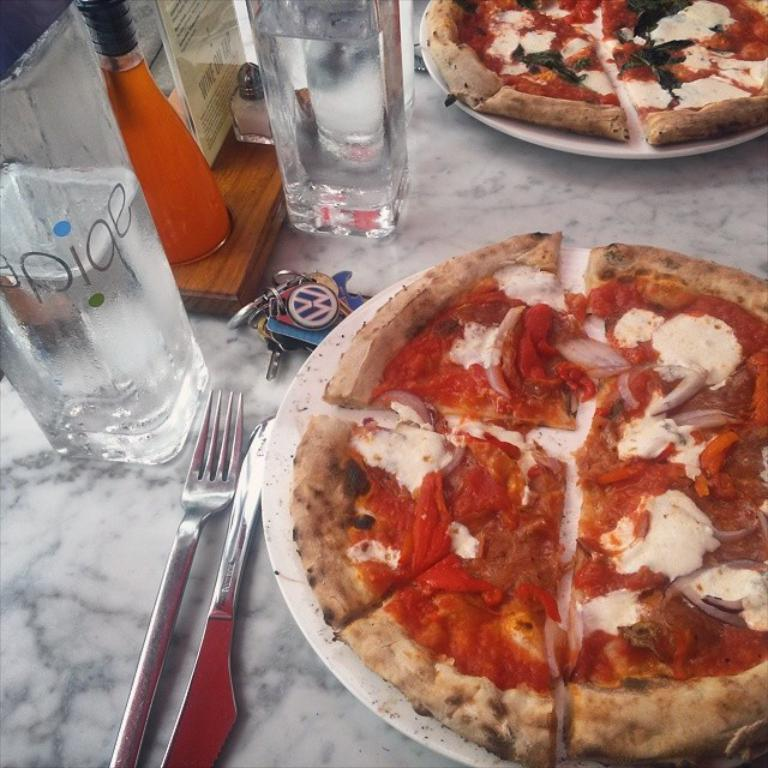Pizza: (285, 206, 751, 763), (418, 0, 765, 157)
